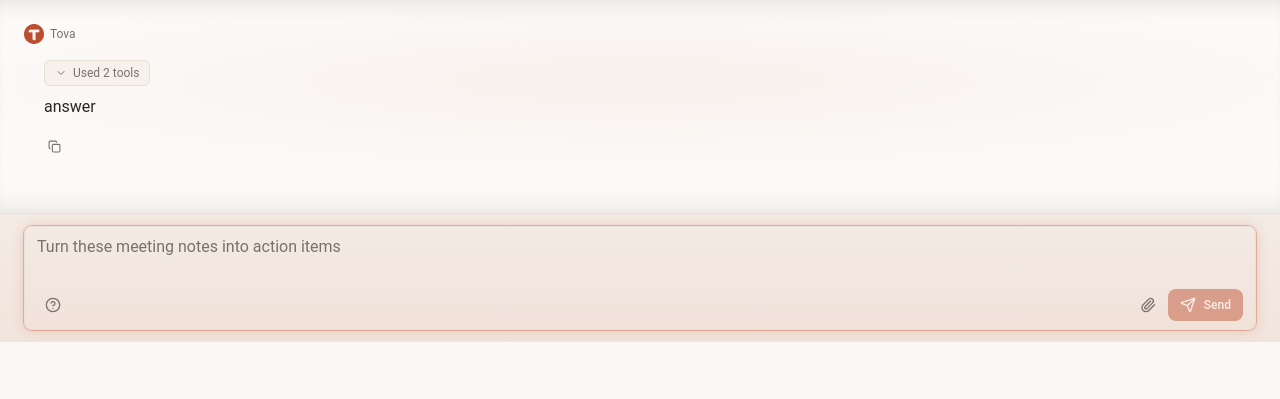
Test: Tool chip (issue #33) › resolves to a success state with a result summary once the round completes
The width and height of the screenshot is (1280, 399).
Click the button with test id "tool-summary-toggle": point(97, 73) [44,60,150,86]
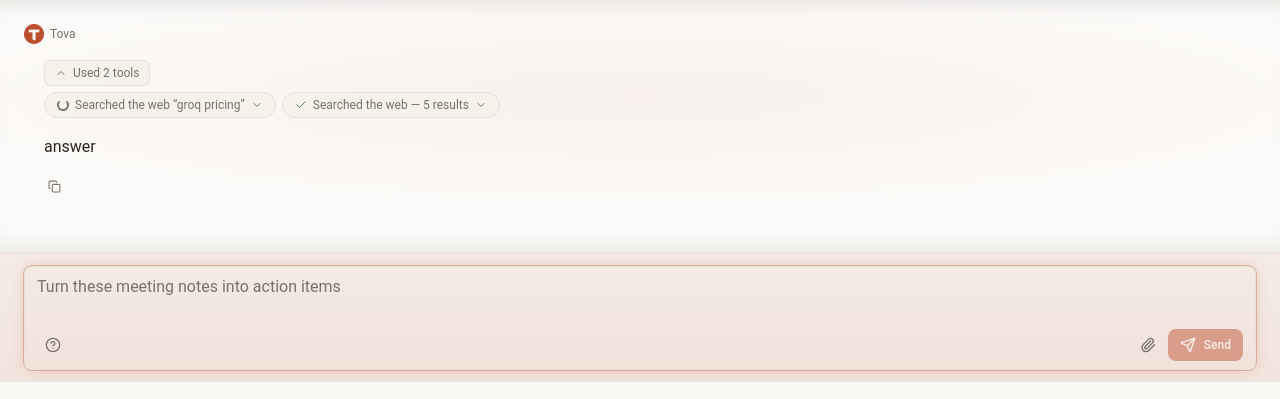
Result: the element with test id "tool-chip-web_search" shows "5 results" at [282,92,500,118]
